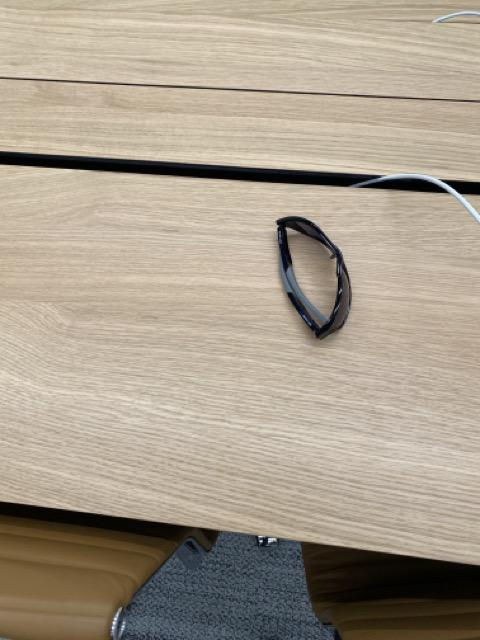Sunglasses: (276, 212, 354, 343)
